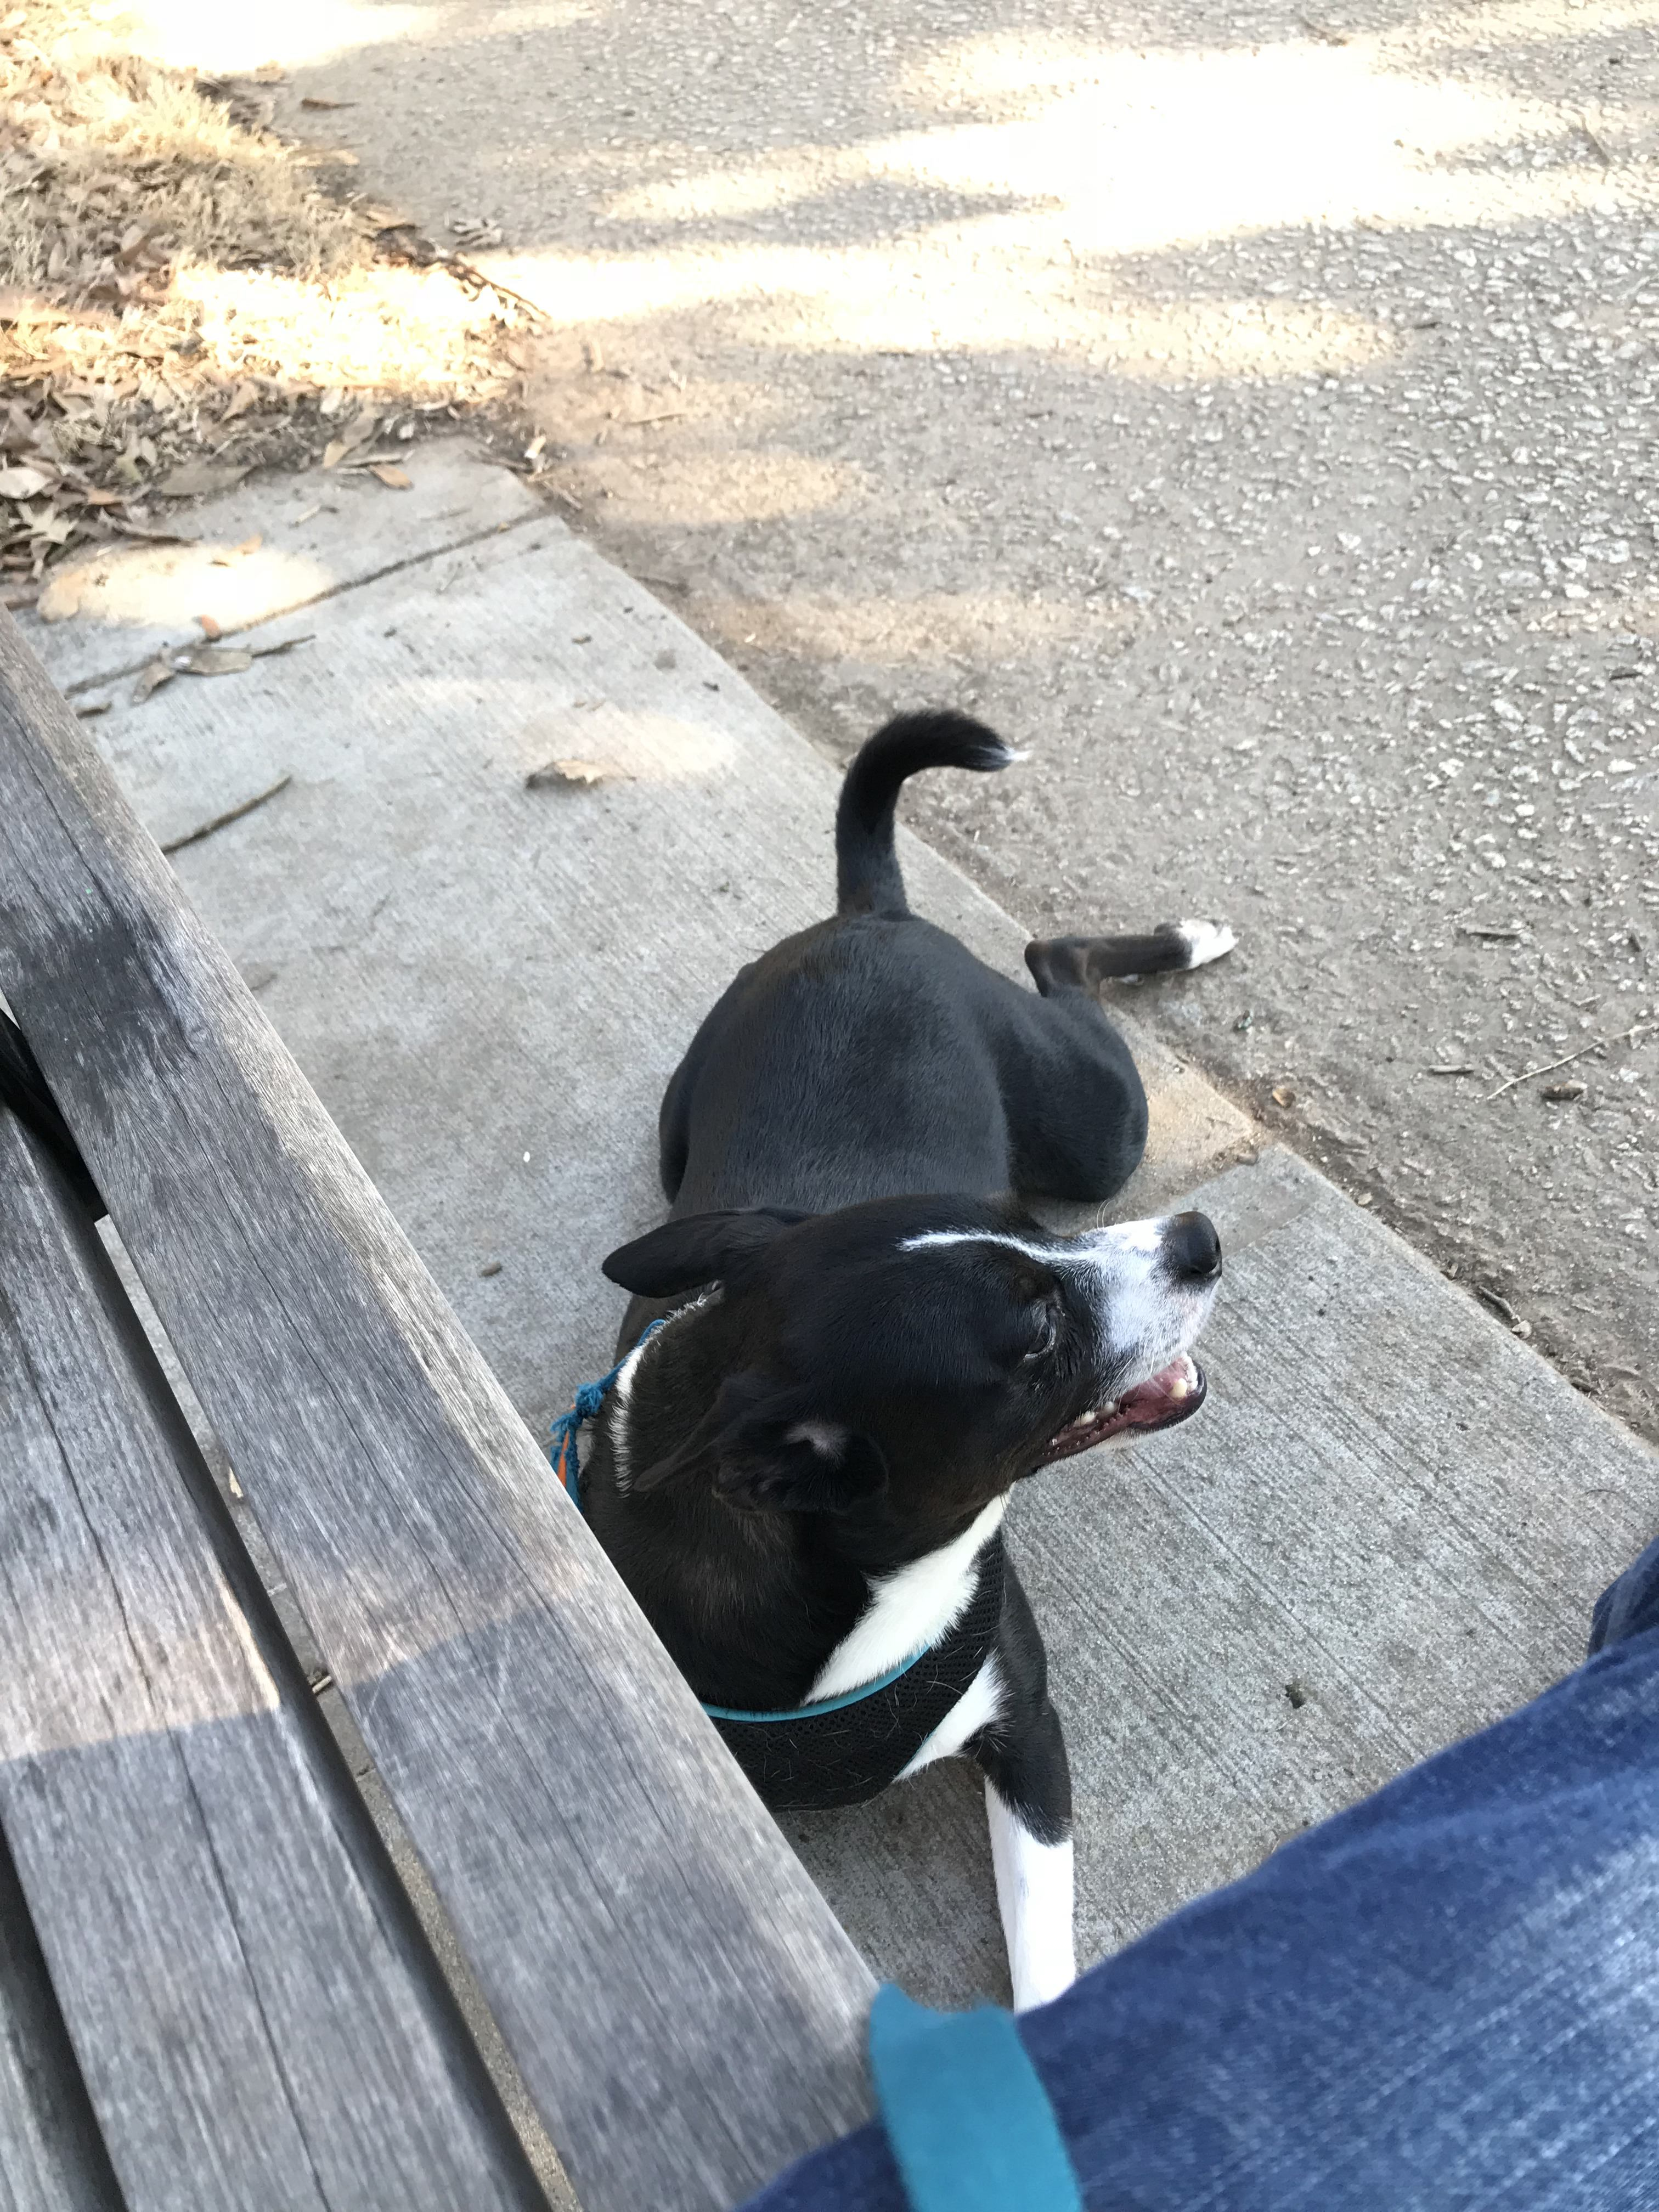Harley: (551, 667, 1281, 1900)
